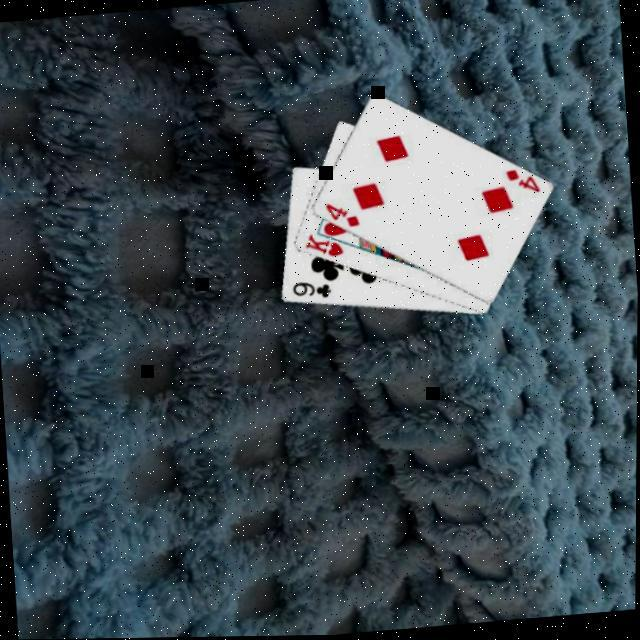4D: (502, 165, 544, 198), (322, 198, 362, 232)
9C: (290, 276, 336, 304)
KH: (302, 228, 348, 262)
